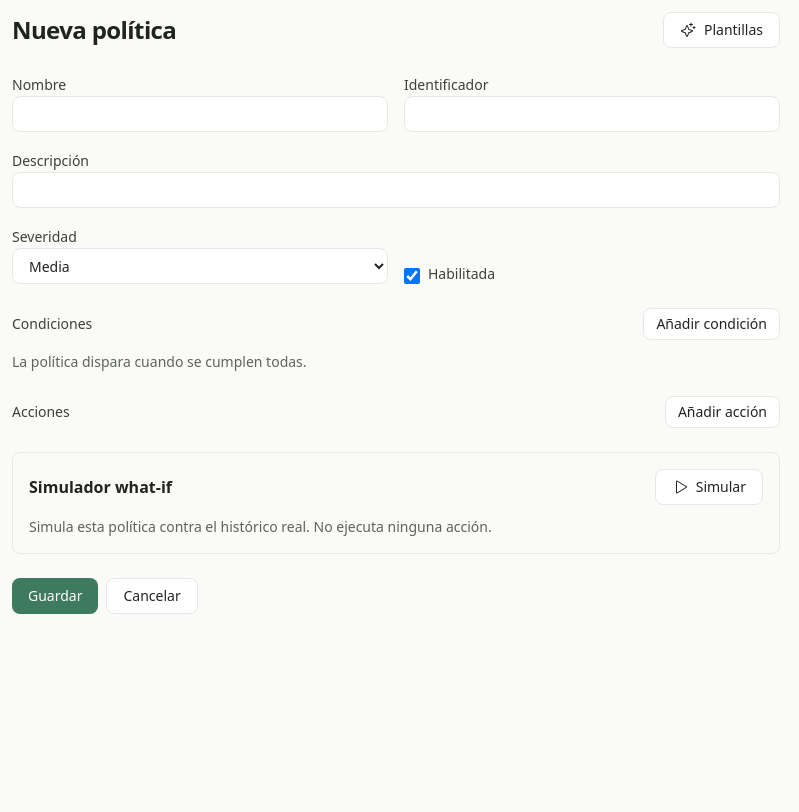
Scenario: añadir y quitar filas de condición
Click the button "Añadir condición" at point(712, 324), box [643, 308, 780, 340]
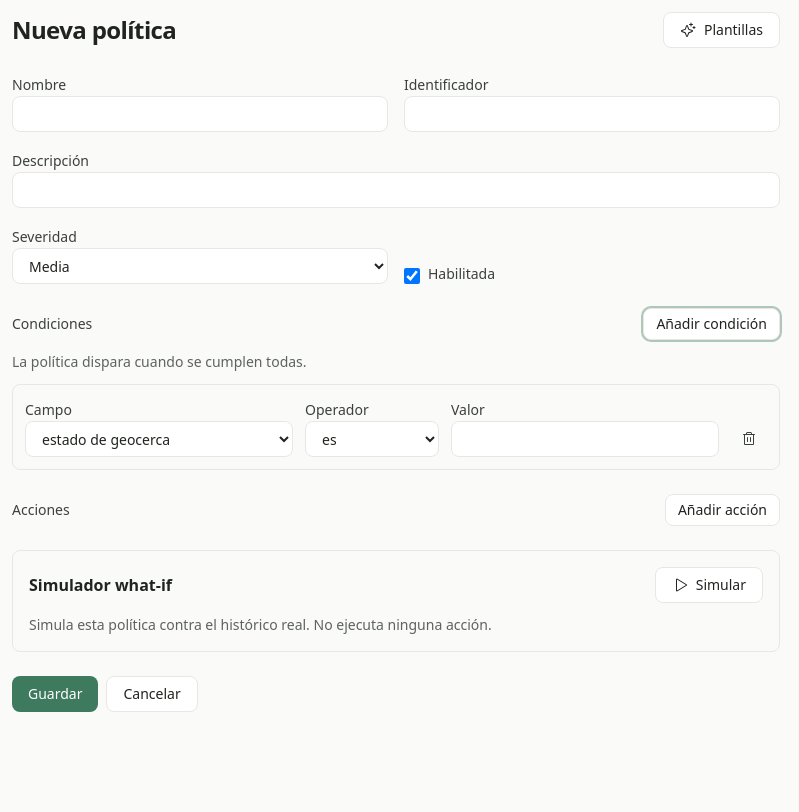
Click the button "Añadir condición" at point(712, 324), box [643, 308, 780, 340]
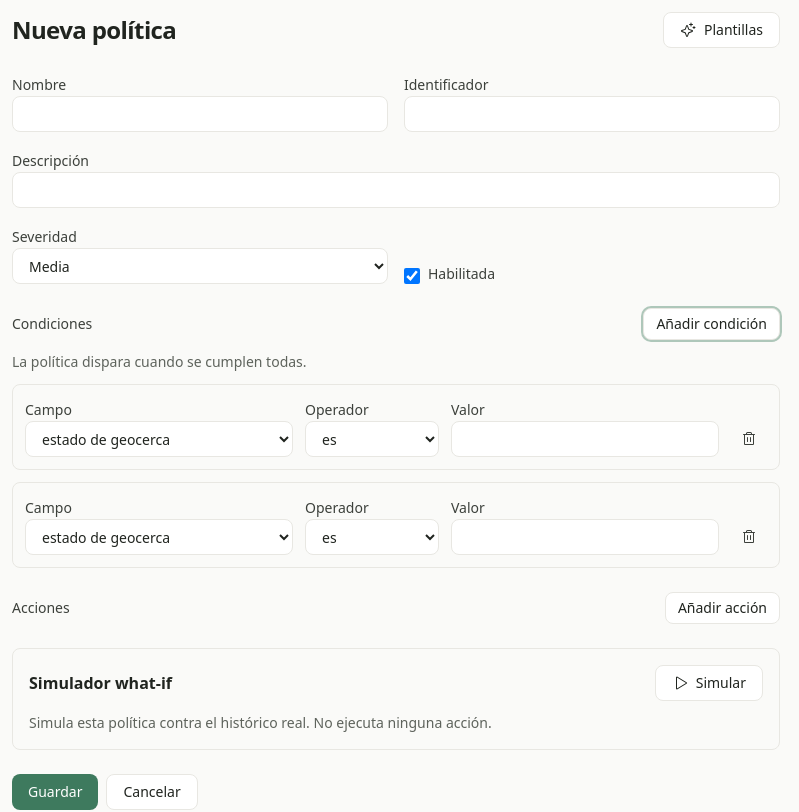
Now the number of dropdowns labelled "Campo" is 2, box [25, 421, 293, 457]; [25, 519, 293, 555]
Click the 1st button named "Quitar condición" at point(749, 439), box [731, 421, 767, 457]
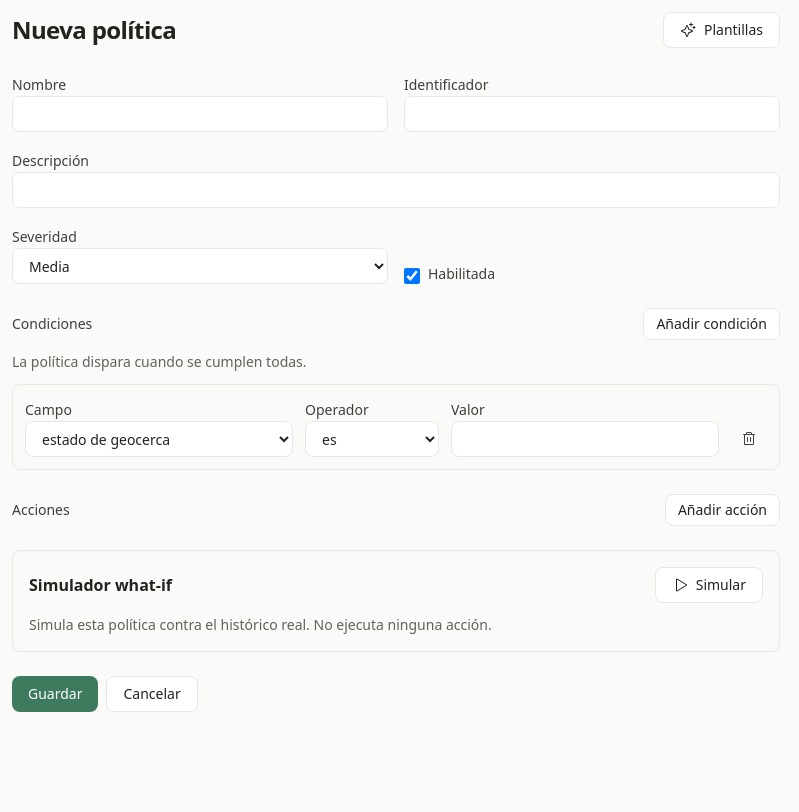
Now the number of dropdowns labelled "Campo" is 1, box [25, 421, 293, 457]
